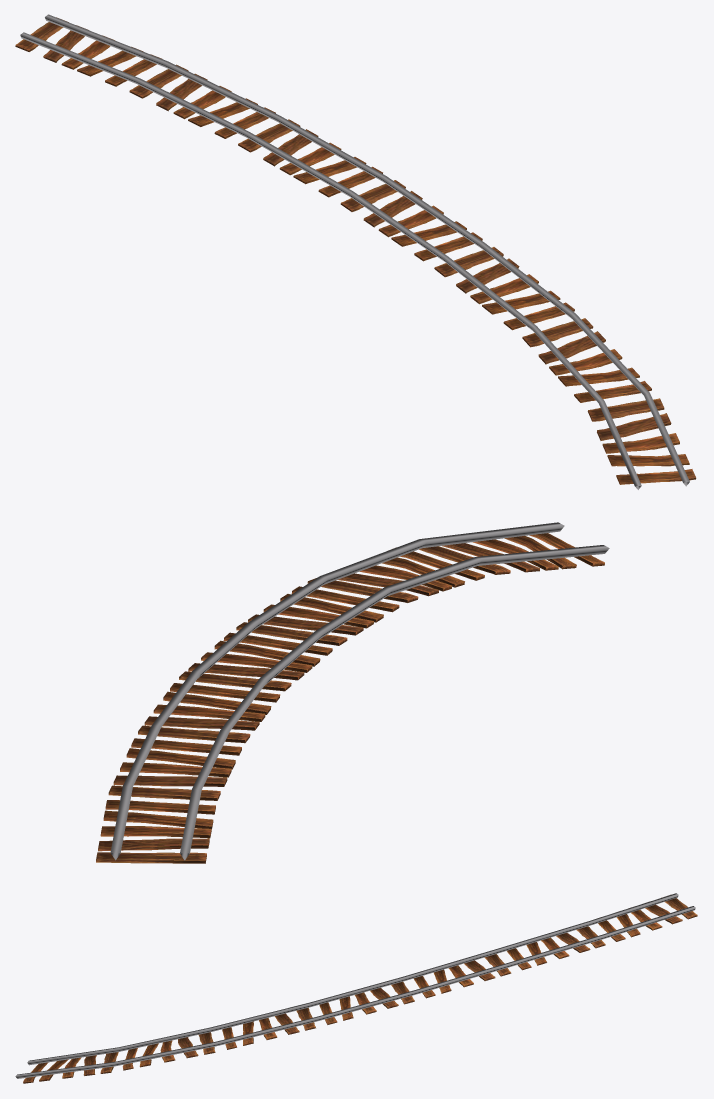
Rendered from SWORDLIGHT20_MAIN1RAILS1SW.fbx.
3 views of the same model, one above another, from view 1: azimuth 30°, elevation 25°; view 2: azimuth 150°, elevation 25°; view 3: azimuth 270°, elevation 25° (orthographic). The views are drawn at different scales.
Parts seen in each view (by area): view 1: SWORDLIGHT20_MAIN1RAILS1SW; view 2: SWORDLIGHT20_MAIN1RAILS1SW; view 3: SWORDLIGHT20_MAIN1RAILS1SW.
Boxes of the visible parts, x1,y1,x2,y2 form: SWORDLIGHT20_MAIN1RAILS1SW: (15,14,696,489); SWORDLIGHT20_MAIN1RAILS1SW: (96,522,609,863); SWORDLIGHT20_MAIN1RAILS1SW: (15,893,697,1083).
Size of the model in its own units: 61296 by 38330 by 203075.
2 materials, 2 textured.
